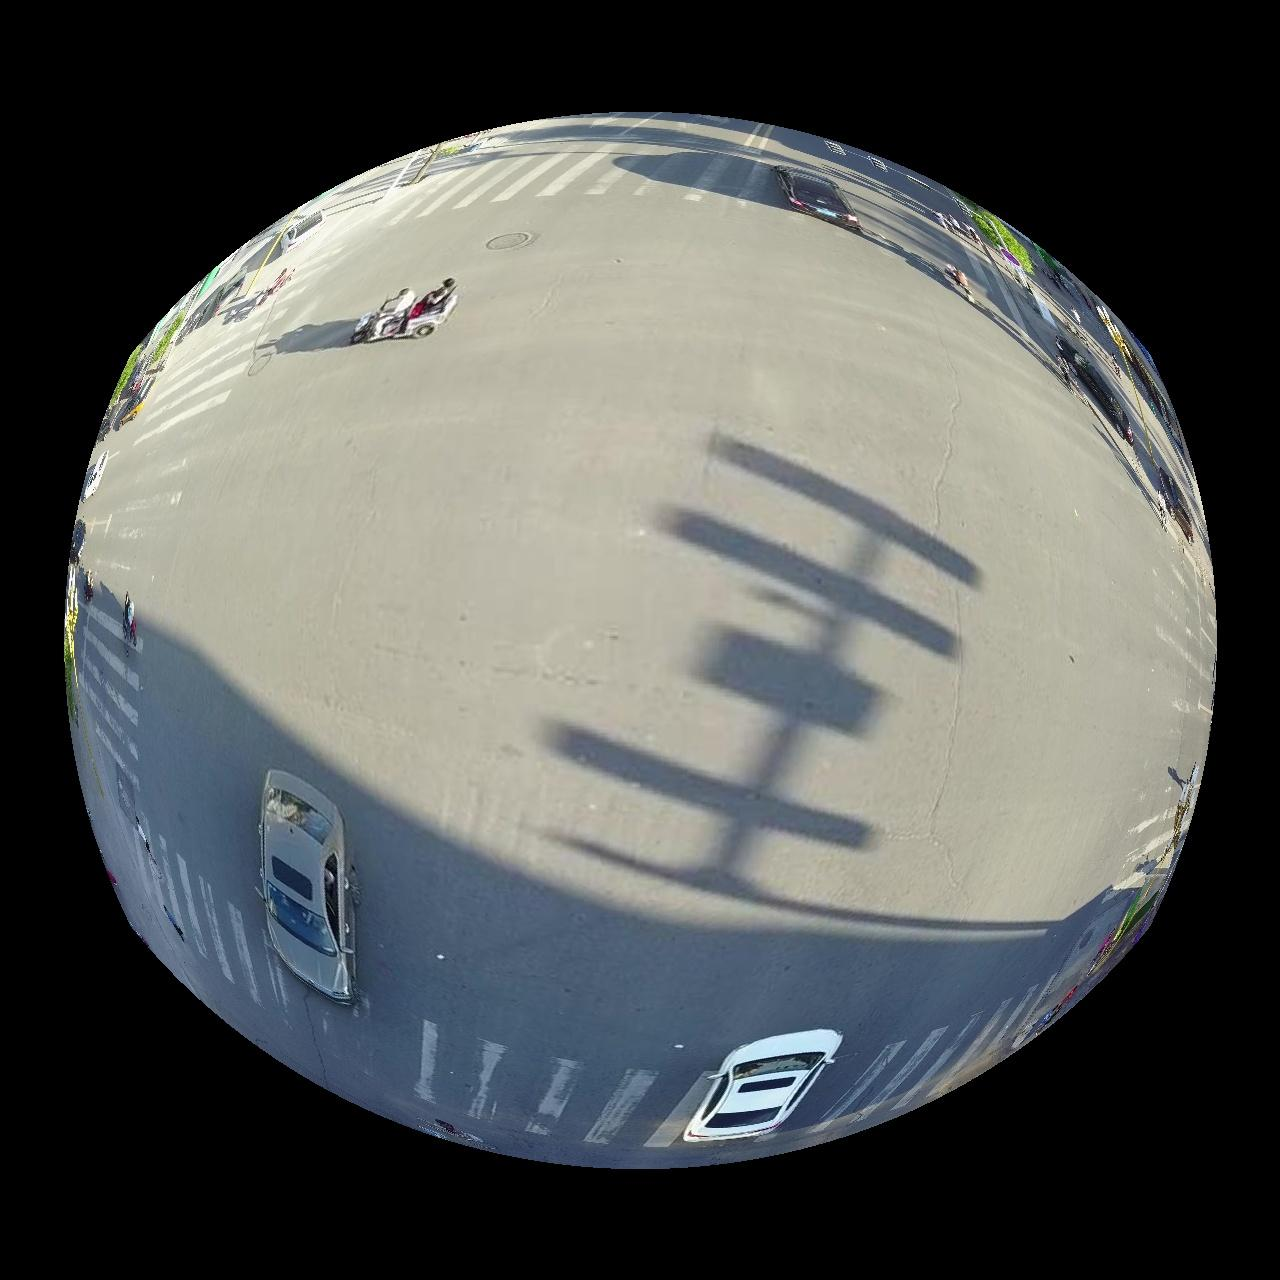cars: (259, 770, 353, 1003), (685, 1032, 843, 1144)
